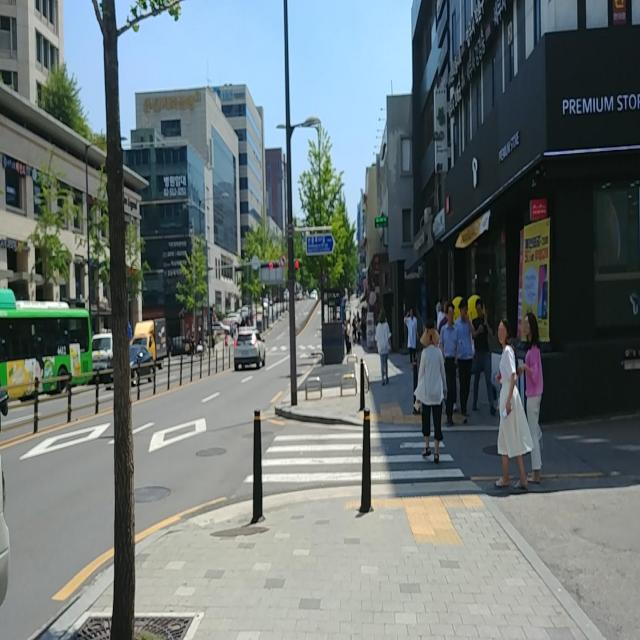횡단보도: (243, 422, 465, 484)
